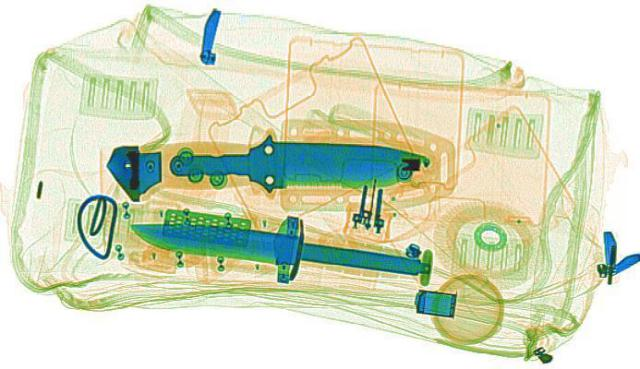Knife: (115, 197, 445, 295), (166, 129, 430, 194)
